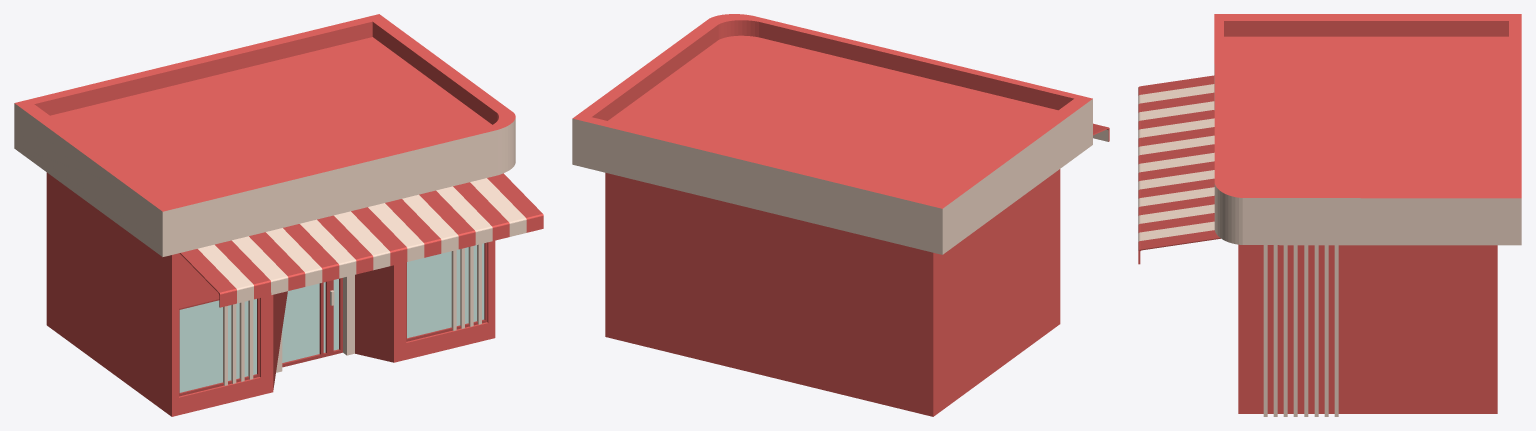
The model's file is Casa3.fbx.
3 views of the same model, side by side, from view 1: azimuth 30°, elevation 25°; view 2: azimuth 150°, elevation 25°; view 3: azimuth 270°, elevation 25° (orthographic). The views are drawn at different scales.
Parts seen in each view (by area): view 1: pizzeria; view 2: pizzeria; view 3: pizzeria.
Part boxes in pixels (bbox=[...]): pizzeria: bbox=[14, 14, 543, 416]; pizzeria: bbox=[572, 14, 1109, 416]; pizzeria: bbox=[1138, 14, 1521, 416].
Bounding box in the file's own units: 756 × 434 × 665.
